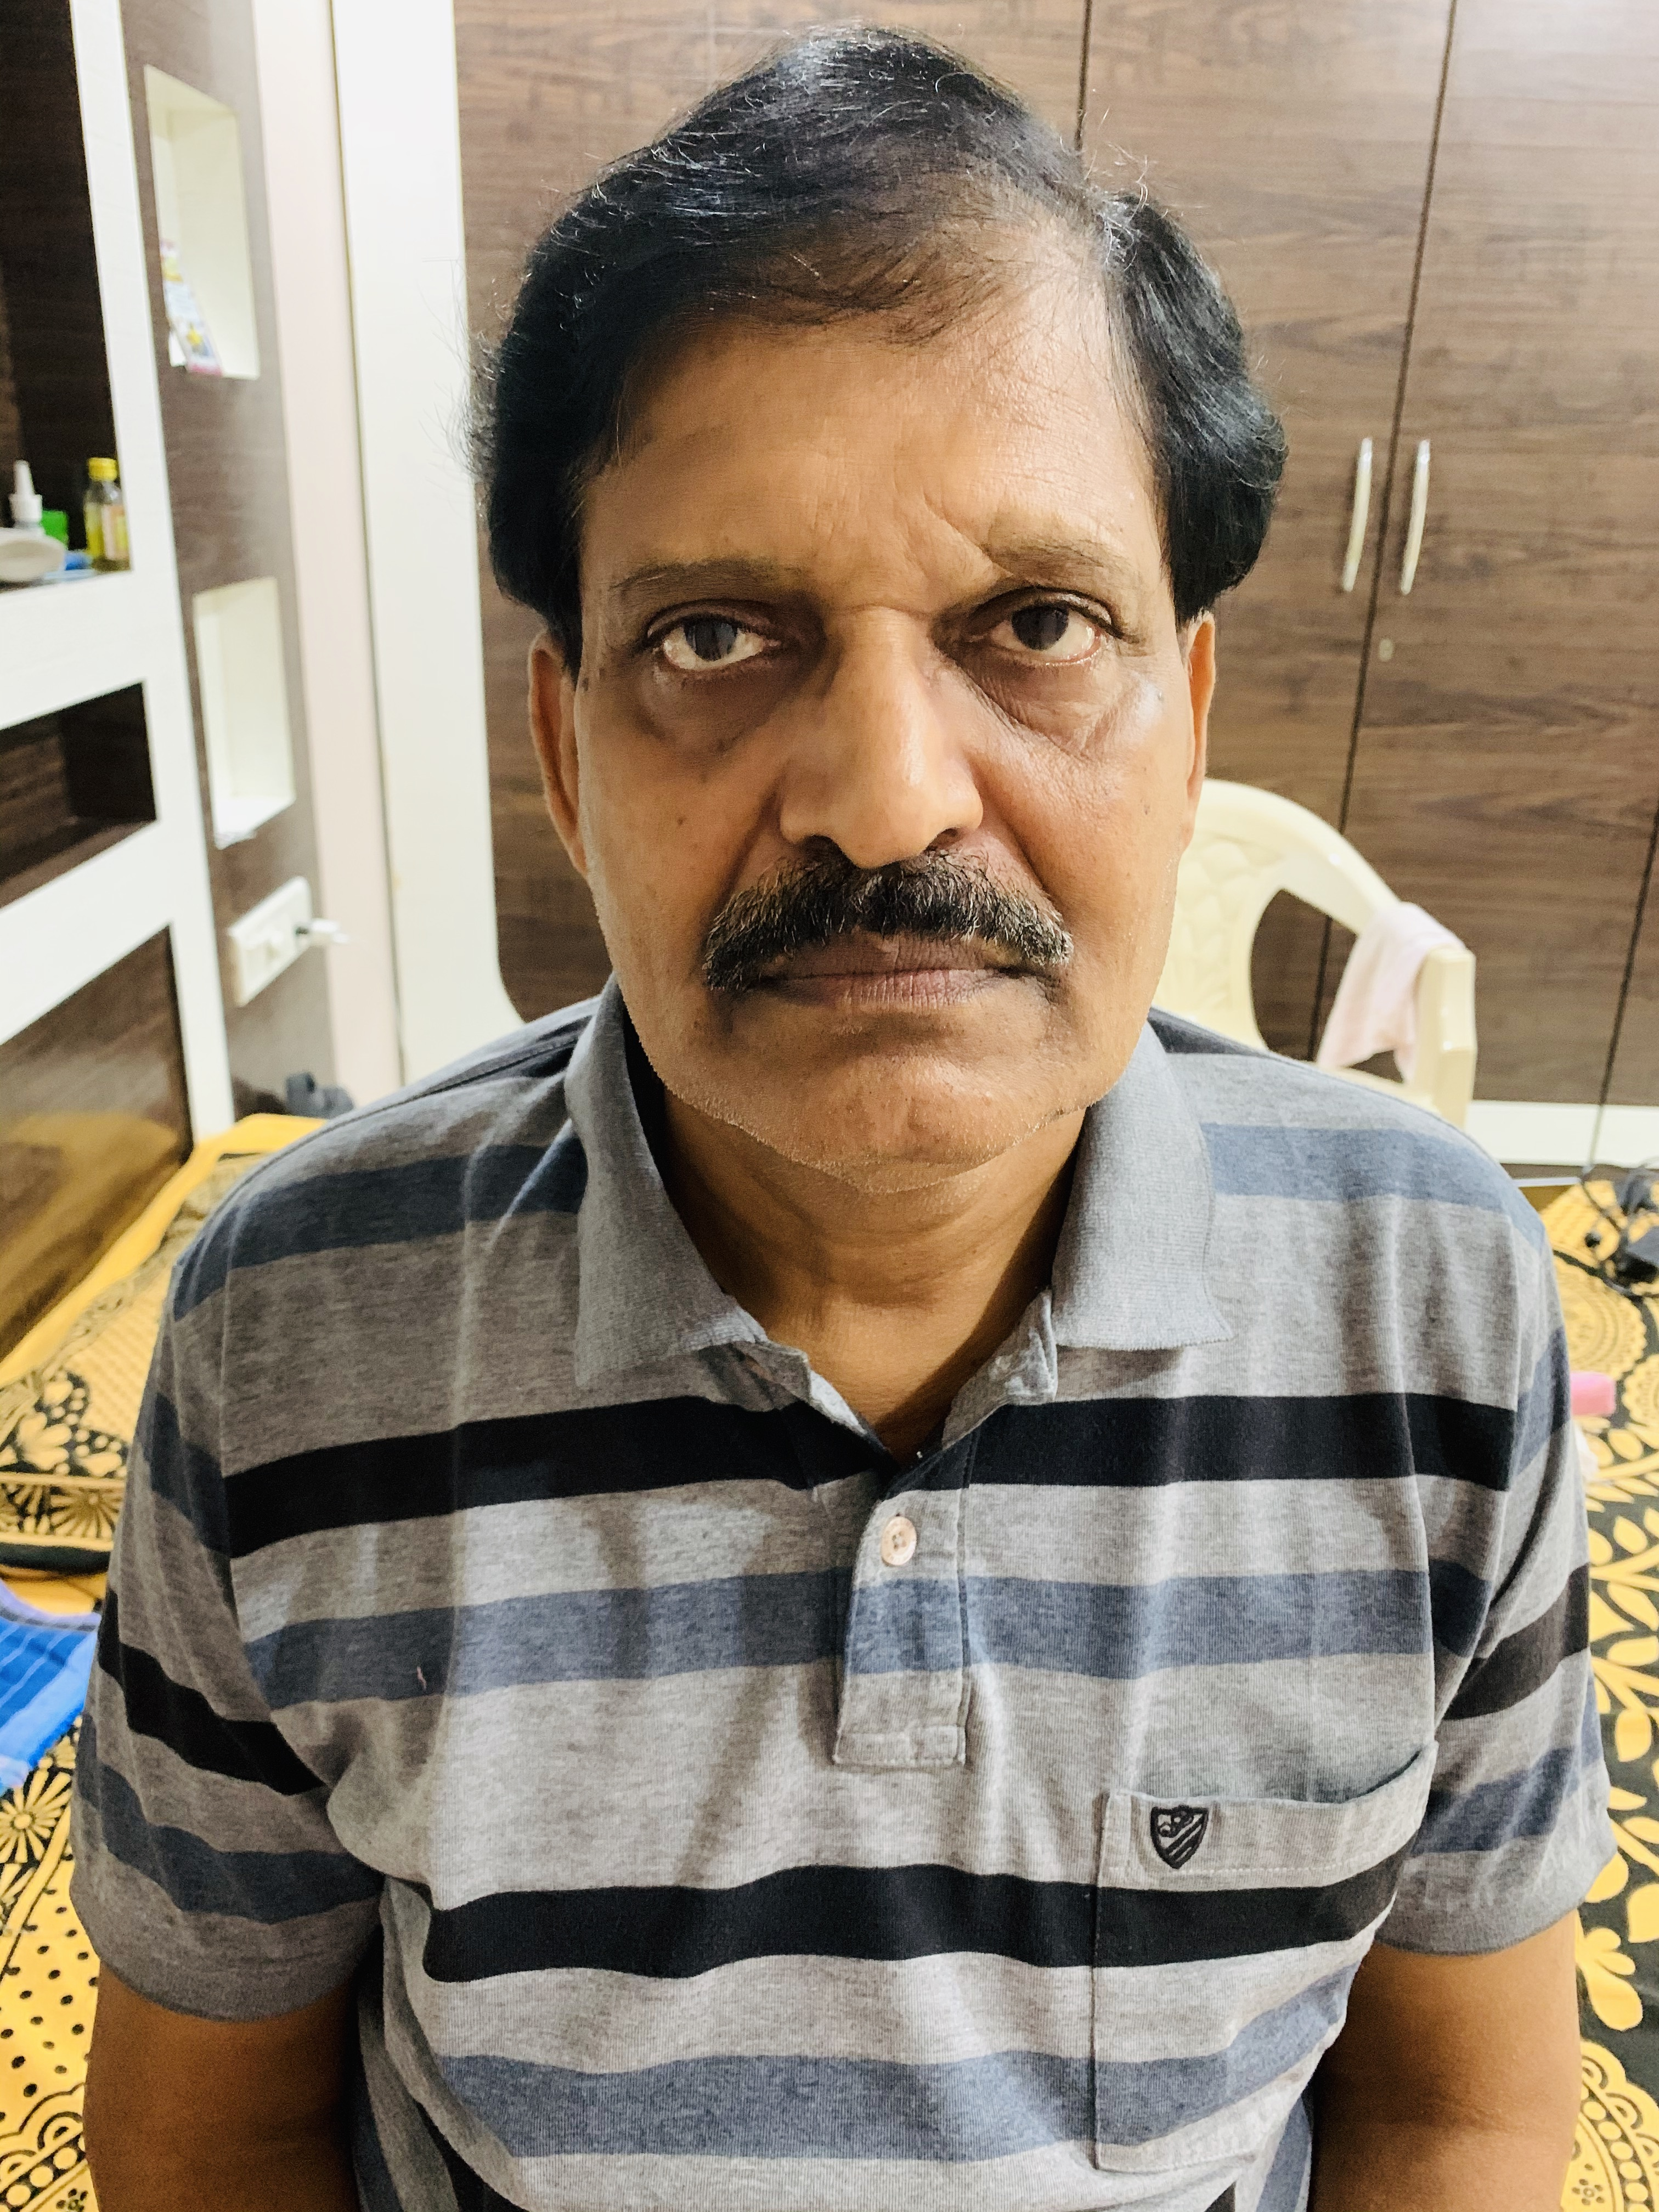Not Sleeping: (591, 549, 1152, 711)
